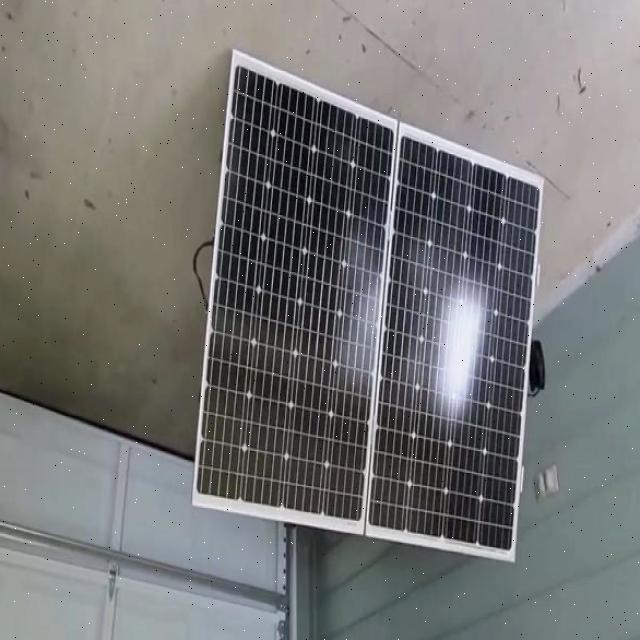Normal Solar Panel: (196, 52, 396, 524), (370, 132, 542, 550)
